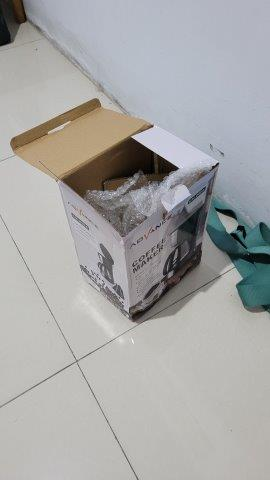kardus: (11, 99, 221, 322)
